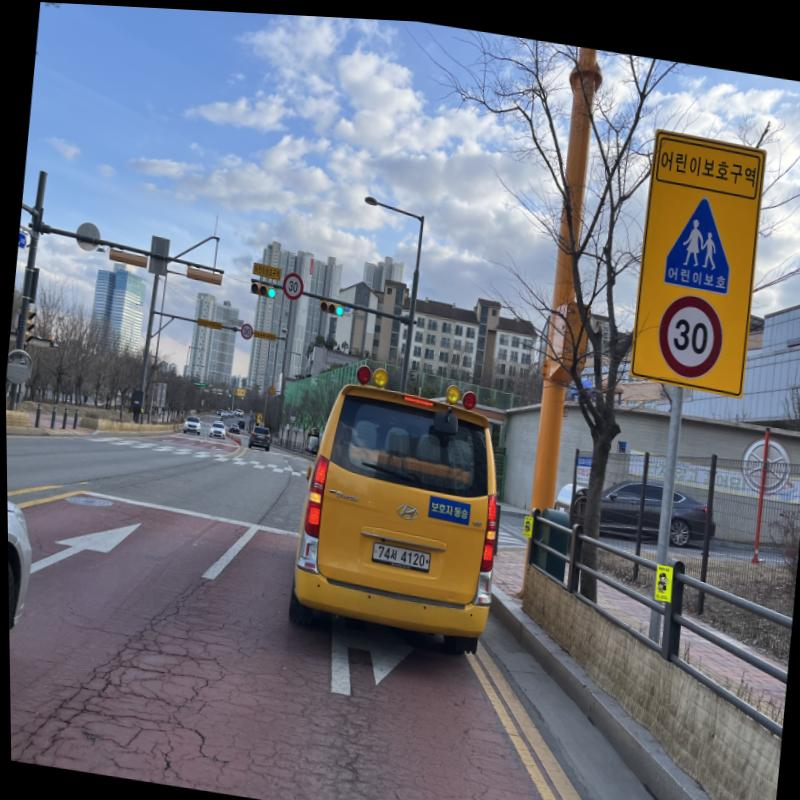green: (334, 300, 343, 312), (266, 284, 275, 295)
